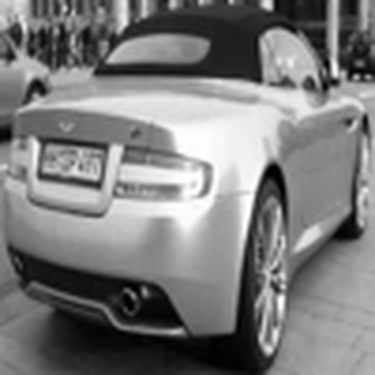car: (1, 10, 370, 371), (3, 16, 57, 143), (331, 20, 367, 92)
